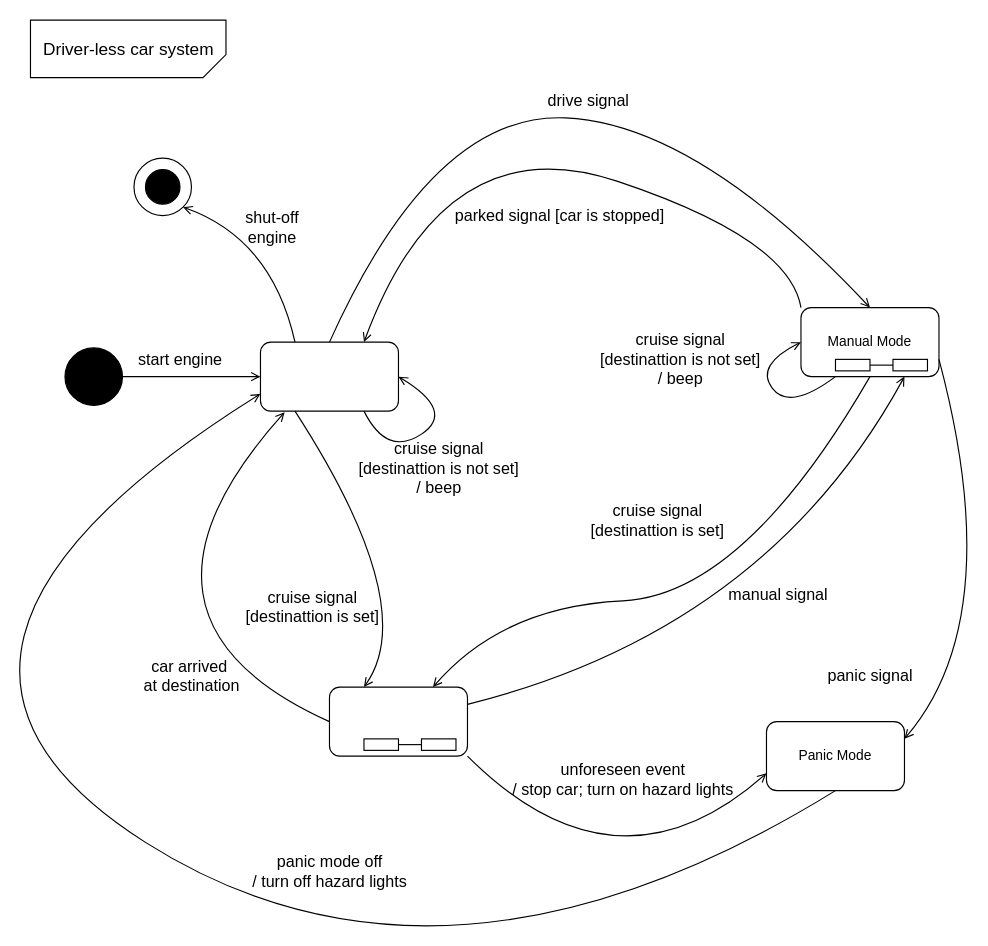
The diagram is 988 pixels wide and 946 high, and some of its shapes have lost their labels. Here are the shapes that lost their labels. From the top down, the box of each, then its label:
(259, 341, 398, 411): Idle (Parked)
(328, 686, 467, 756): Cruise Mode
